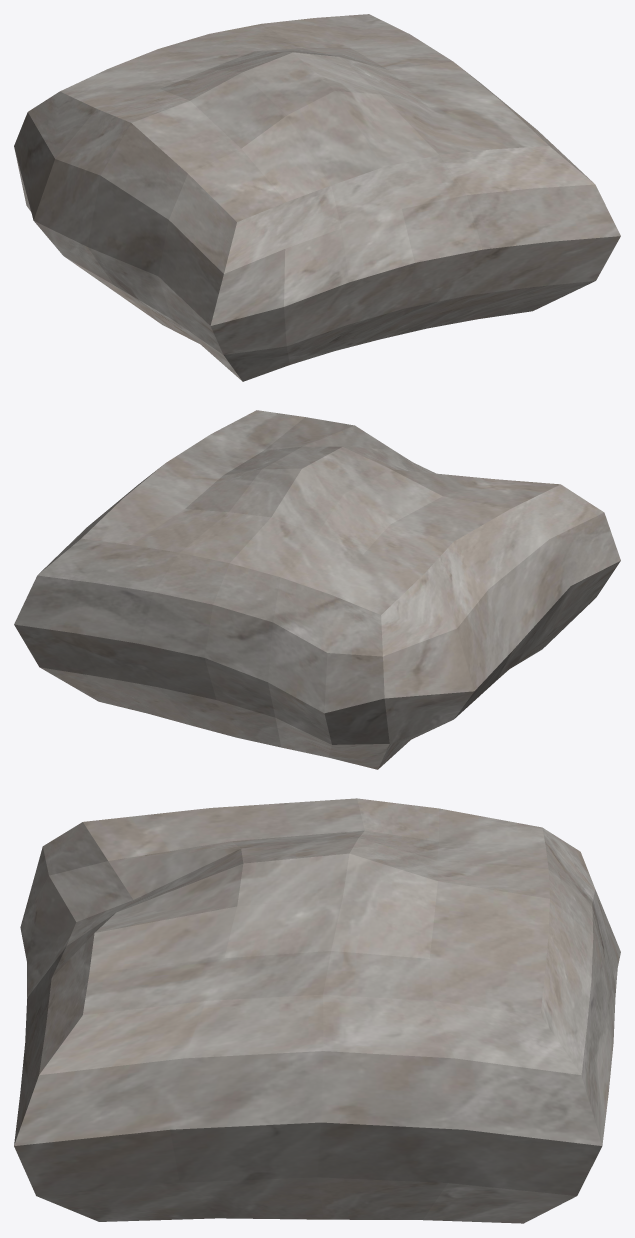
Rendered from ROCA.fbx.
3 renders of one model, top to bottom at view 1: azimuth 30°, elevation 25°; view 2: azimuth 150°, elevation 25°; view 3: azimuth 270°, elevation 25°, orthographic. The views are drawn at different scales.
Visible parts, largest first — view 1: ROCA; view 2: ROCA; view 3: ROCA.
Boxes of the visible parts, left/top/right/bottom form: ROCA: left=14, top=14, right=620, bottom=381; ROCA: left=14, top=410, right=620, bottom=769; ROCA: left=14, top=798, right=620, bottom=1223.
Size of the model in its own units: 460 by 250 by 460.
